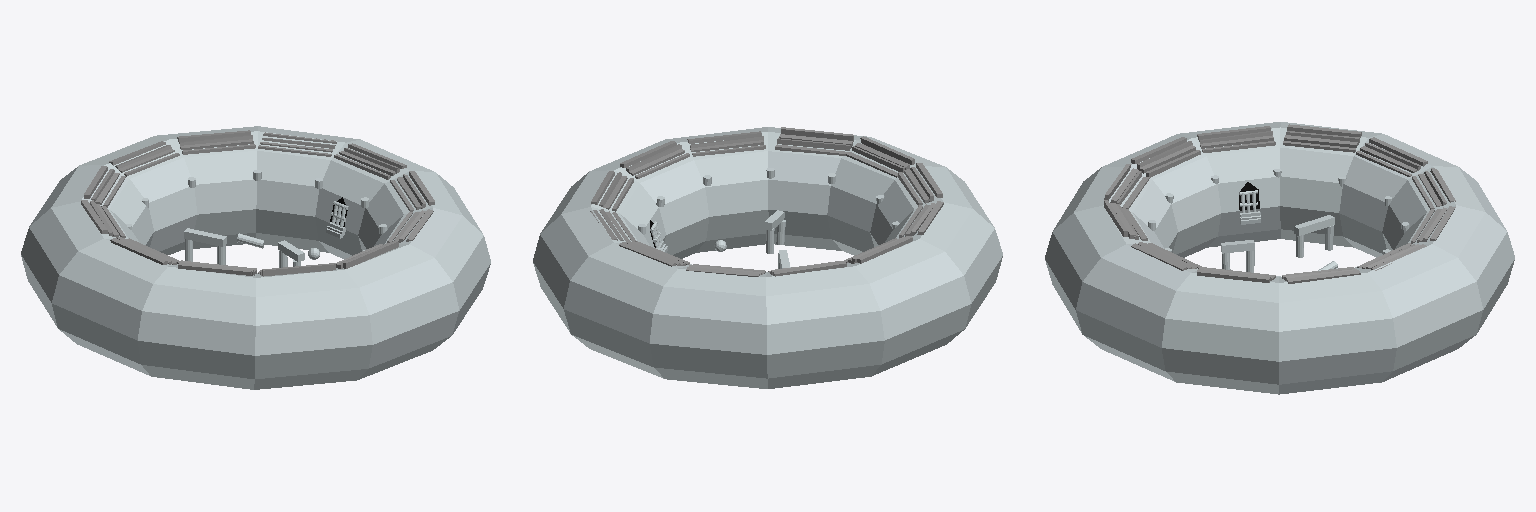
The picture shows the model from 3 angles: view 1: azimuth 30°, elevation 25°; view 2: azimuth 150°, elevation 25°; view 3: azimuth 270°, elevation 25°; orthographic projection.
Parts seen in each view (by area): view 1: group[number redacted], group[number redacted], group[number redacted], group[number redacted], group[number redacted], group[number redacted], group[number redacted], group[number redacted], group[number redacted], group[number redacted], group[number redacted], group[number redacted] (+1 smaller); view 2: group[number redacted], group[number redacted], group[number redacted], group[number redacted], group[number redacted], group[number redacted], group[number redacted], group[number redacted], group[number redacted], group[number redacted], group[number redacted], group[number redacted]; view 3: group[number redacted], group[number redacted], group[number redacted], group[number redacted], group[number redacted], group[number redacted], group[number redacted], group[number redacted], group[number redacted], group[number redacted], group[number redacted], group[number redacted] (+2 smaller).
Part boxes in pixels (bbox=[...]): group[number redacted]: bbox=[21, 126, 490, 389]; group[number redacted]: bbox=[177, 130, 255, 154]; group[number redacted]: bbox=[334, 143, 406, 179]; group[number redacted]: bbox=[109, 141, 179, 176]; group[number redacted]: bbox=[258, 132, 336, 156]; group[number redacted]: bbox=[390, 171, 434, 211]; group[number redacted]: bbox=[84, 166, 125, 207]; group[number redacted]: bbox=[81, 200, 125, 237]; group[number redacted]: bbox=[387, 209, 433, 242]; group[number redacted]: bbox=[110, 237, 180, 264]; group[number redacted]: bbox=[178, 260, 256, 275]; group[number redacted]: bbox=[335, 240, 398, 268]; group[number redacted]: bbox=[533, 127, 1002, 388]; group[number redacted]: bbox=[775, 127, 853, 155]; group[number redacted]: bbox=[846, 136, 914, 177]; group[number redacted]: bbox=[687, 131, 765, 156]; group[number redacted]: bbox=[620, 141, 689, 178]; group[number redacted]: bbox=[898, 163, 942, 206]; group[number redacted]: bbox=[591, 171, 633, 211]; group[number redacted]: bbox=[899, 201, 943, 237]; group[number redacted]: bbox=[619, 240, 689, 266]; group[number redacted]: bbox=[844, 236, 912, 263]; group[number redacted]: bbox=[590, 209, 636, 241]; group[number redacted]: bbox=[686, 264, 765, 276]; group[number redacted]: bbox=[1045, 122, 1514, 394]; group[number redacted]: bbox=[1283, 124, 1361, 152]; group[number redacted]: bbox=[1197, 126, 1275, 152]; group[number redacted]: bbox=[1131, 137, 1200, 177]; group[number redacted]: bbox=[1356, 137, 1427, 176]; group[number redacted]: bbox=[1104, 164, 1149, 208]; group[number redacted]: bbox=[1412, 168, 1455, 209]; group[number redacted]: bbox=[1104, 200, 1147, 240]; group[number redacted]: bbox=[1411, 206, 1455, 243]; group[number redacted]: bbox=[1131, 242, 1201, 270]; group[number redacted]: bbox=[1282, 267, 1360, 283]; group[number redacted]: bbox=[1197, 267, 1275, 282].
Bounding box in the file's own units: 2.26 × 0.6207 × 2.26.